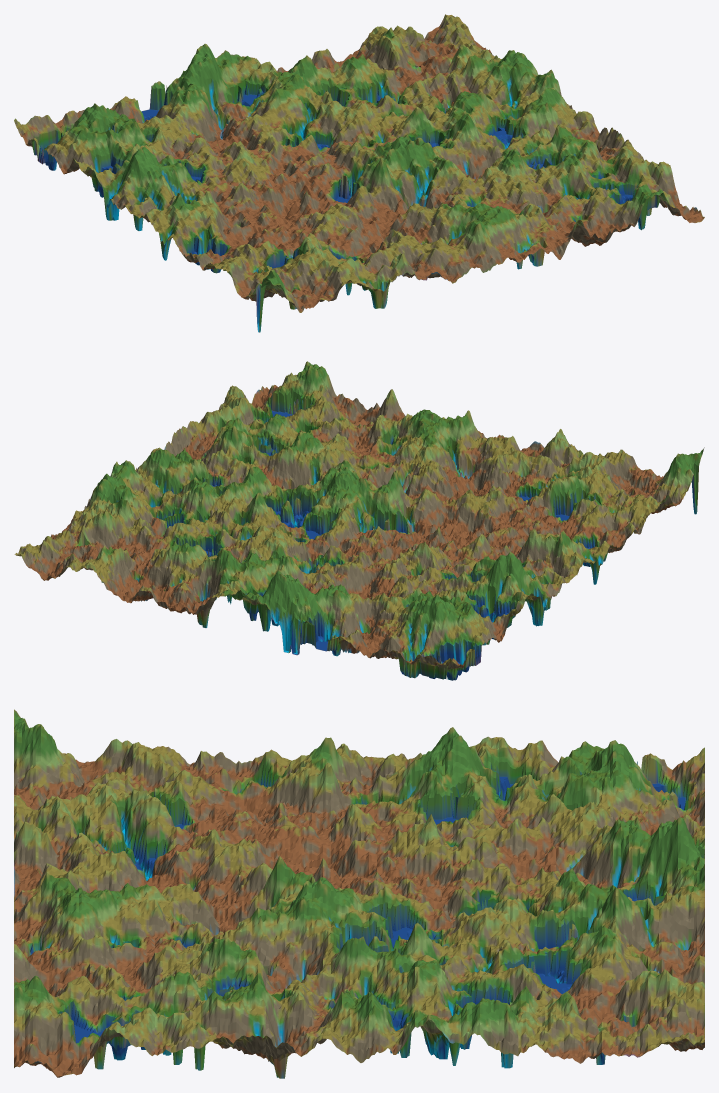
Rendered from landscape_INTERESSENCE_v3.obj.
3 views of the same model, one above another, from view 1: azimuth 30°, elevation 25°; view 2: azimuth 150°, elevation 25°; view 3: azimuth 270°, elevation 25° (orthographic). The views are drawn at different scales.
Parts seen in each view (by area): view 1: terrain_INTERESSENCE; view 2: terrain_INTERESSENCE; view 3: terrain_INTERESSENCE.
Boxes of the visible parts, <box> form: terrain_INTERESSENCE: <box>14,14,704,332</box>; terrain_INTERESSENCE: <box>14,361,704,680</box>; terrain_INTERESSENCE: <box>14,709,704,1078</box>.
Size of the model in its own units: 255 by 39.94 by 255.
1 material, 1 textured.
